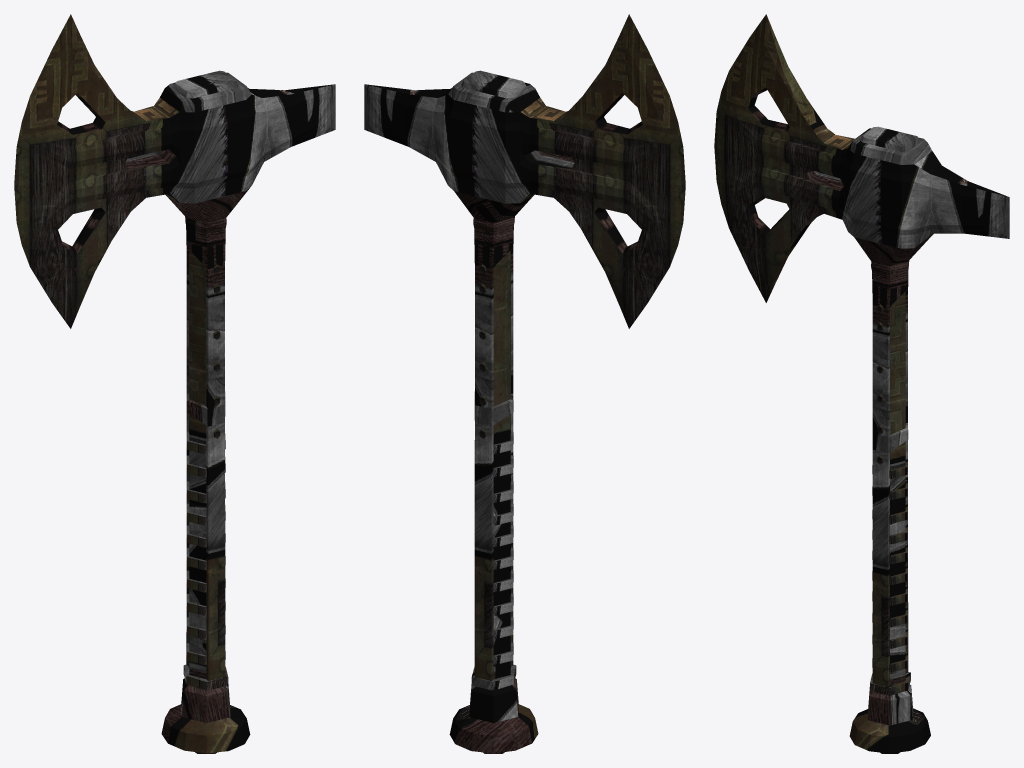
The model's file is Axe.FBX.
3 views of the same model, side by side, from view 1: azimuth 30°, elevation 25°; view 2: azimuth 150°, elevation 25°; view 3: azimuth 330°, elevation 25° (orthographic). The views are drawn at different scales.
Parts seen in each view (by area): view 1: Object001; view 2: Object001; view 3: Object001.
Boxes of the visible parts, x1=… form: Object001: x1=14, y1=14, x2=335, y2=753; Object001: x1=364, y1=14, x2=685, y2=753; Object001: x1=714, y1=14, x2=1009, y2=753.
Bounding box in the file's own units: 13.14 × 30.09 × 3.25.
